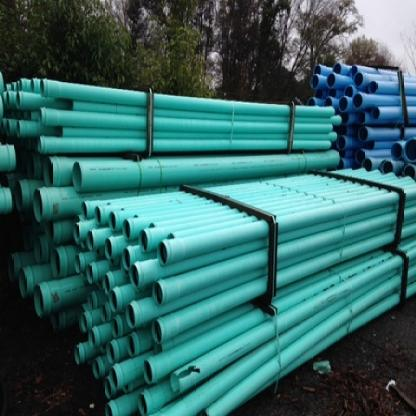PVC: (1, 60, 415, 415)
